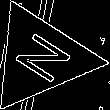N_SE: (5, 27, 75, 89)
